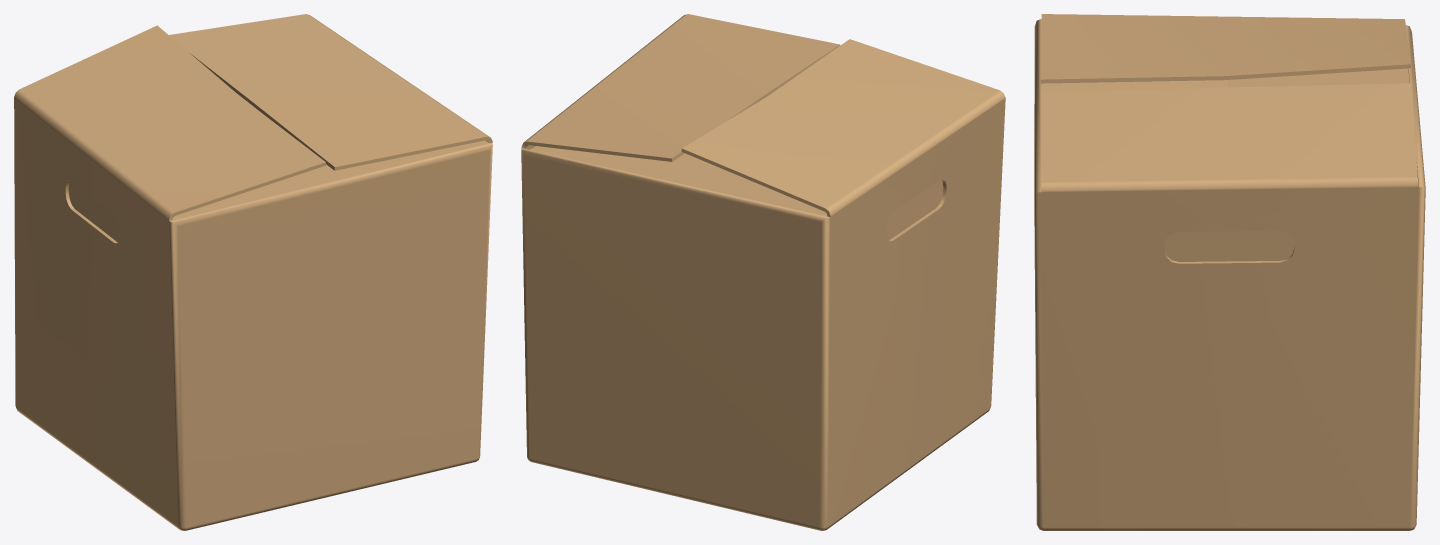
The model's file is BoxCardBoard.glb.
3 renders of one model, left to right at view 1: azimuth 30°, elevation 25°; view 2: azimuth 150°, elevation 25°; view 3: azimuth 270°, elevation 25°, orthographic. The views are drawn at different scales.
Visible parts, largest first — view 1: BoxCardboard; view 2: BoxCardboard; view 3: BoxCardboard.
Part boxes in pixels (x1=…): BoxCardboard: x1=14, y1=14, x2=492, y2=530; BoxCardboard: x1=521, y1=14, x2=1005, y2=530; BoxCardboard: x1=1034, y1=14, x2=1425, y2=530.
Size of the model in its own units: 0.5386 by 0.5586 by 0.5132.
